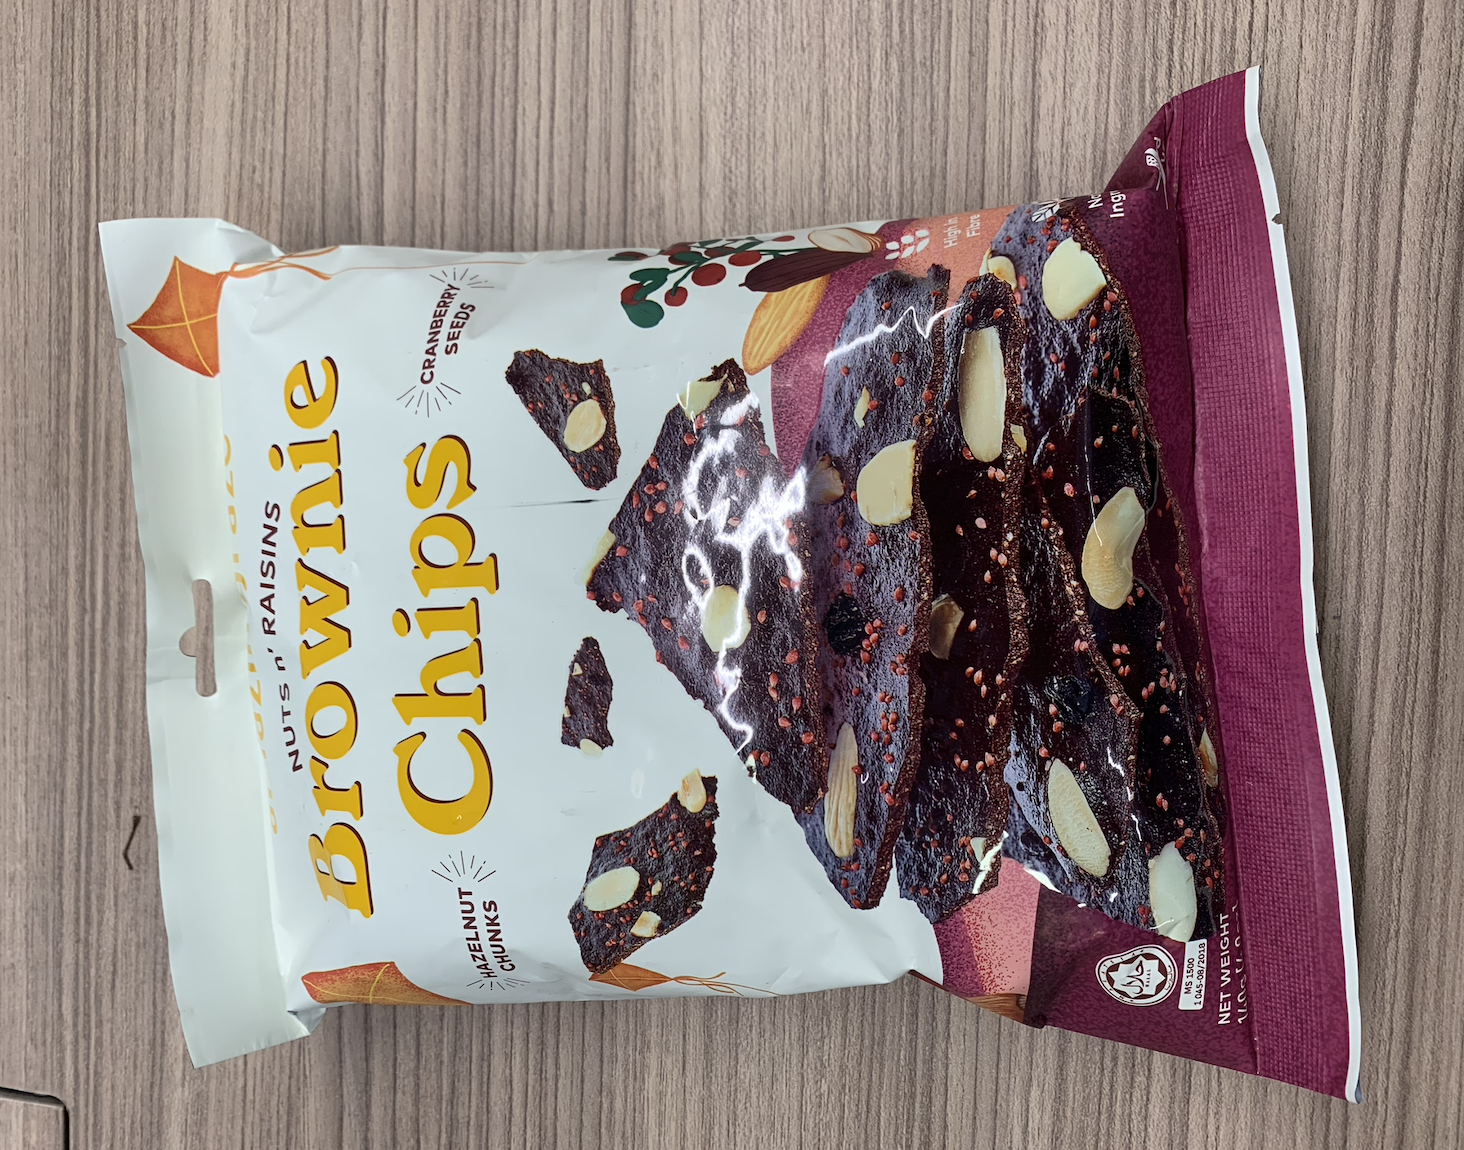crackers_100g-199g: (182, 280, 1261, 1021)
